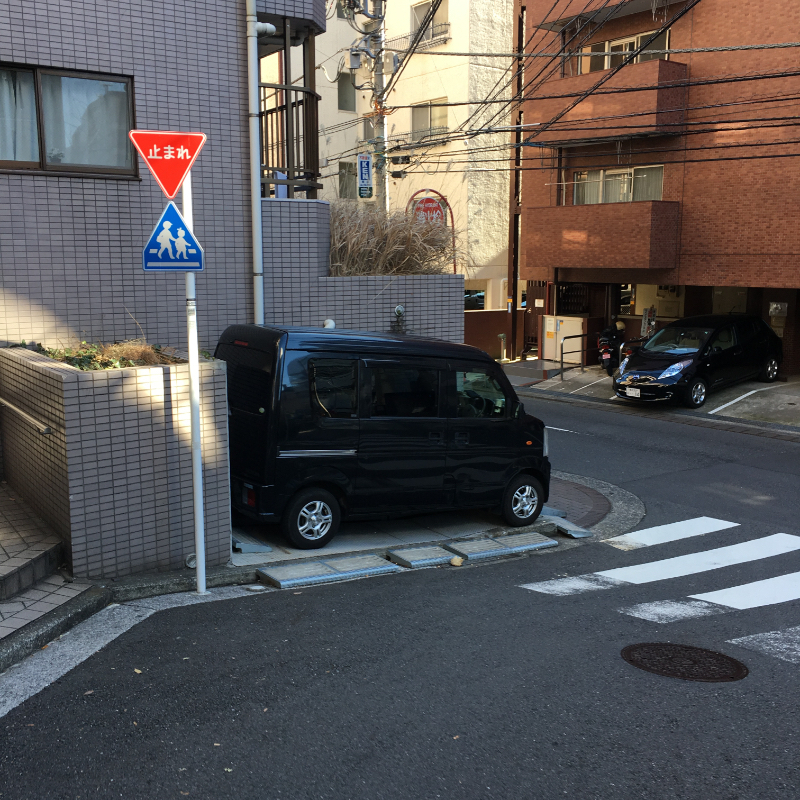STOP: (124, 127, 209, 200)
